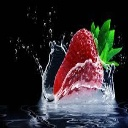strawberry: (52, 20, 117, 99)
